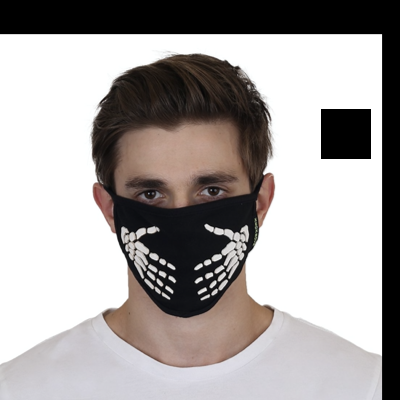with_mask: (113, 160, 259, 318)
